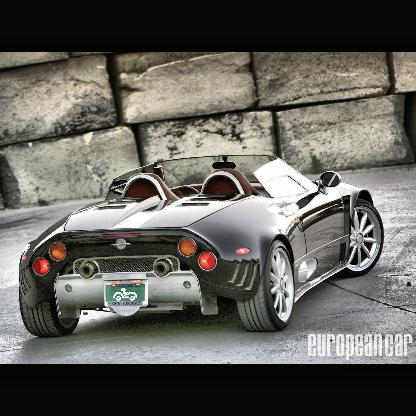Spyker C8 Convertible 2009: (17, 154, 388, 342)
